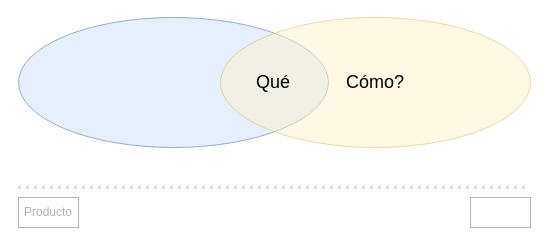
Some shapes in this 548 by 245 pixel diagram are drawn without their labels. Here are the shapes that lost their labels. From the top down, the centre of each, then its label:
the point at 173,82: Por qué?
the point at 500,212: Ingenieria
